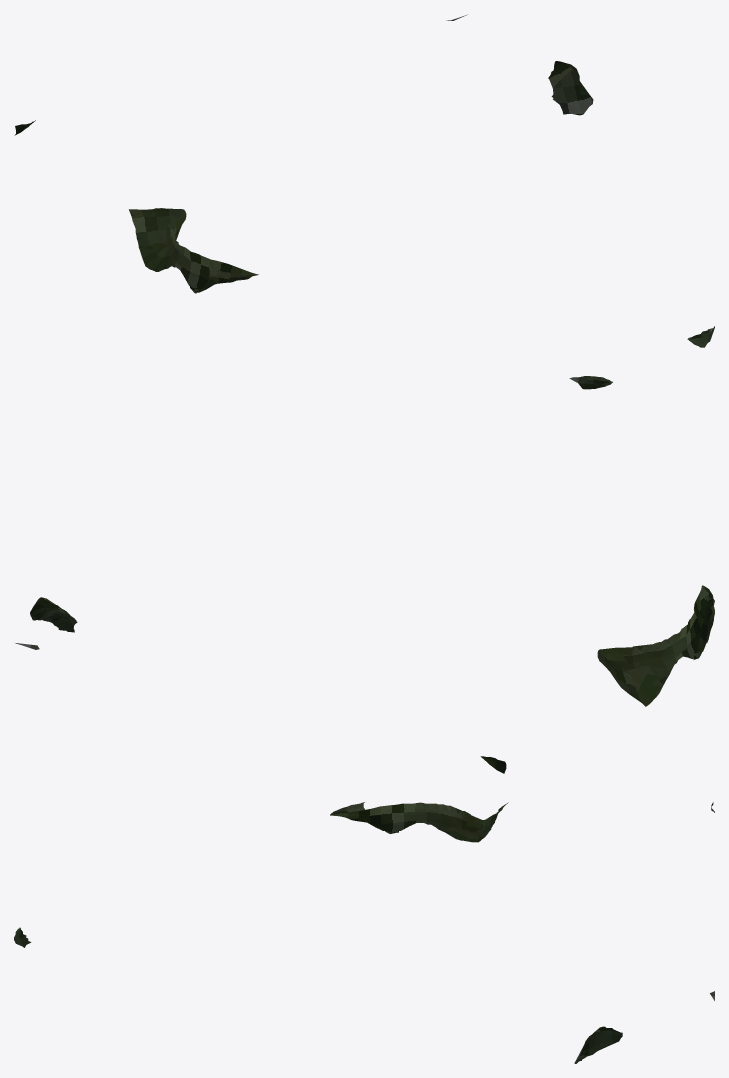
3 renders of one model, top to bottom at view 1: azimuth 30°, elevation 25°; view 2: azimuth 150°, elevation 25°; view 3: azimuth 270°, elevation 25°, orthographic. The views are drawn at different scales.
Size of the model in its own units: 0.5655 by 0.0558 by 0.7598.
Materials: 1 (1 with a texture image).
